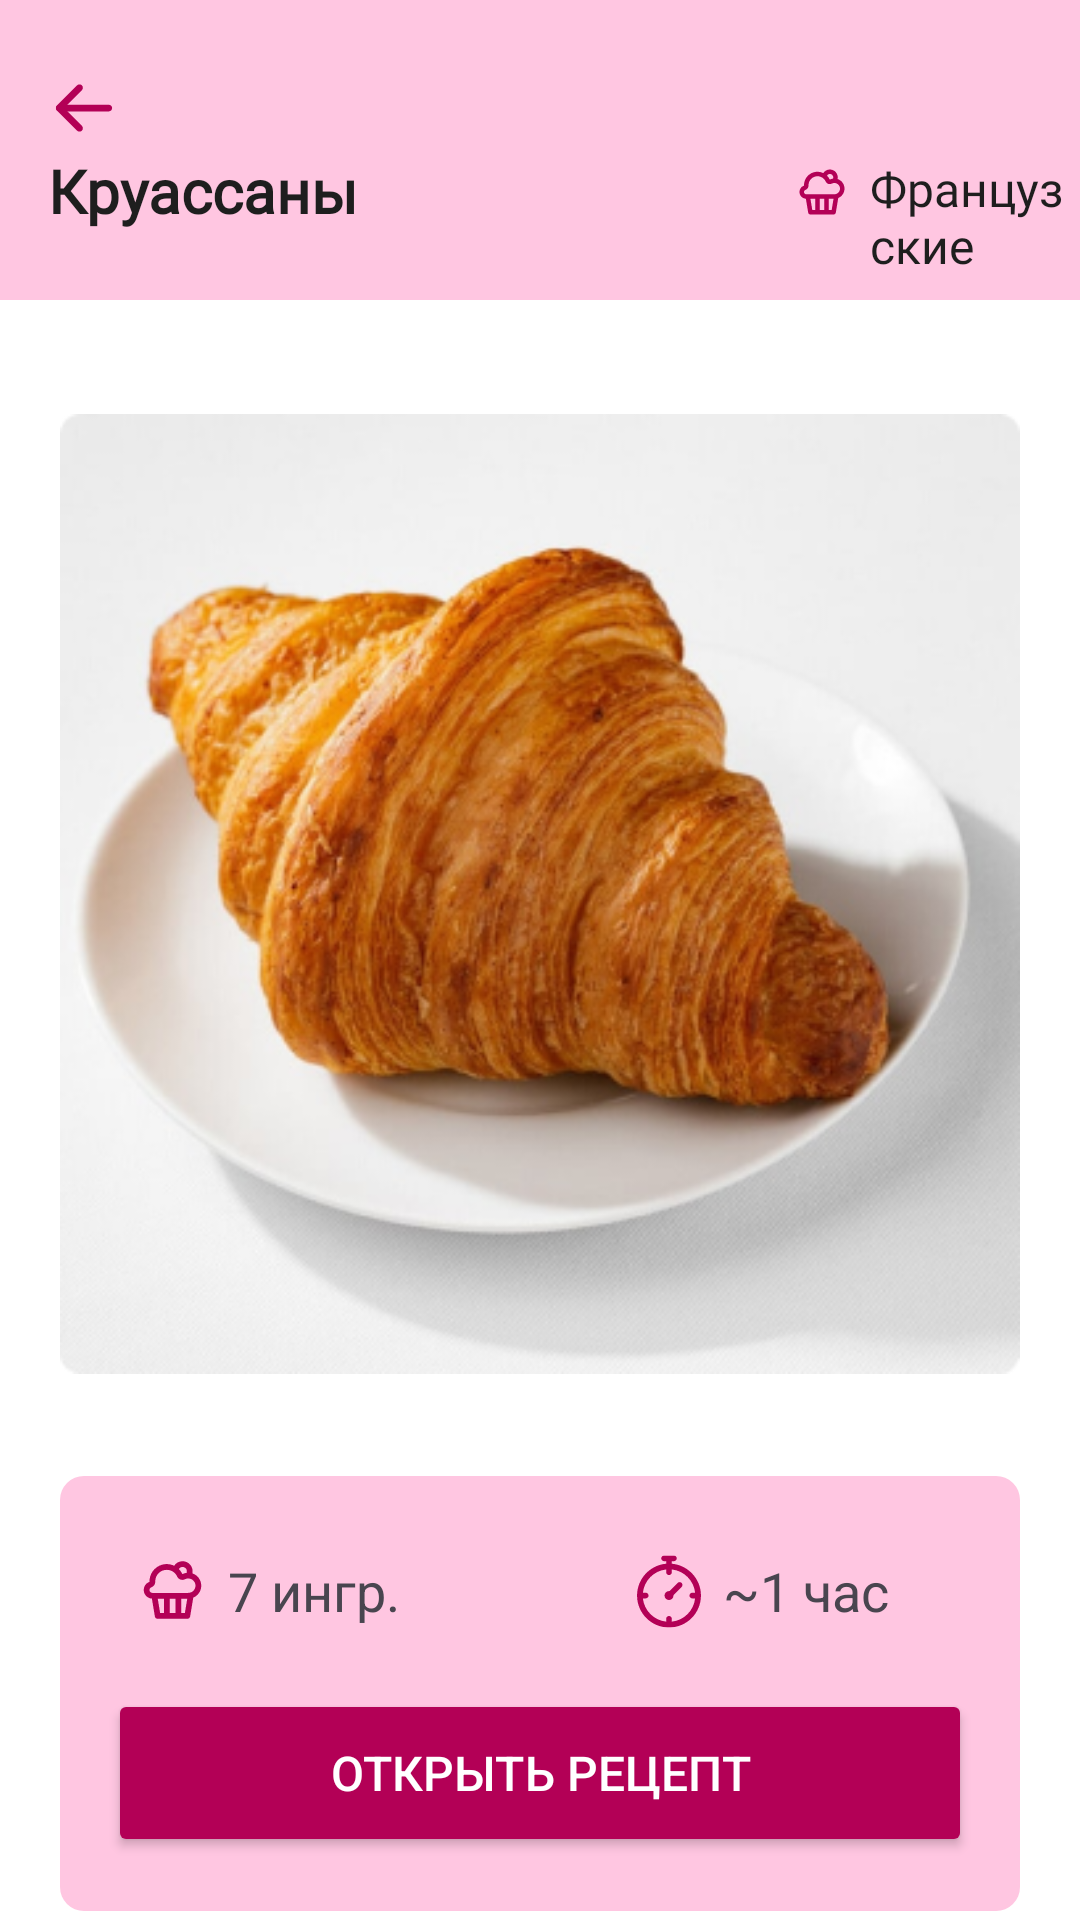

Where to tap for icons on this 1080×1920 app screen, as [x,y]:
timer: [669,1591]
